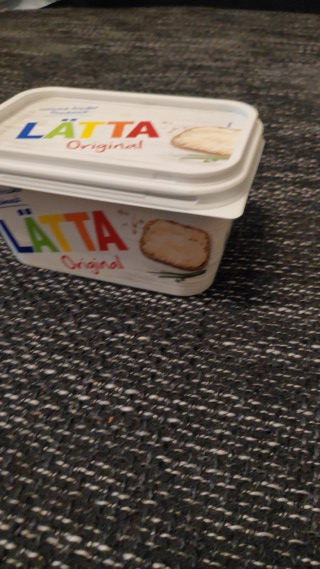laetta: (1, 84, 267, 297)
